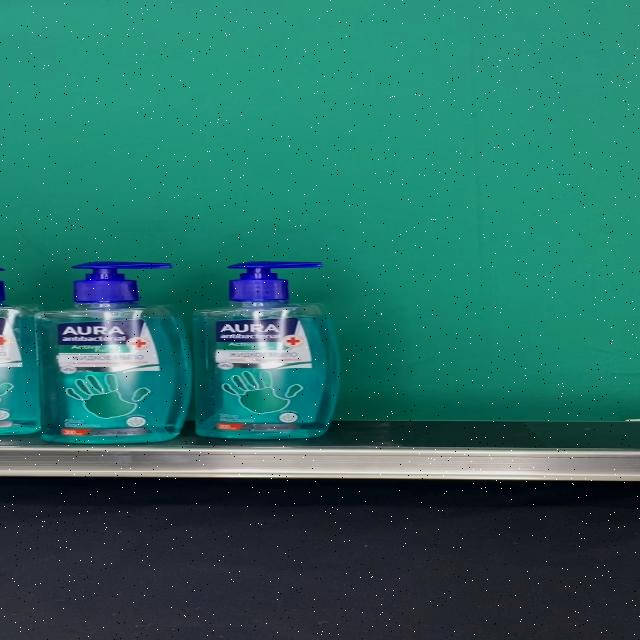Bottle: (36, 262, 193, 444), (193, 261, 339, 438)
Cap: (74, 262, 172, 302), (226, 261, 322, 301)
